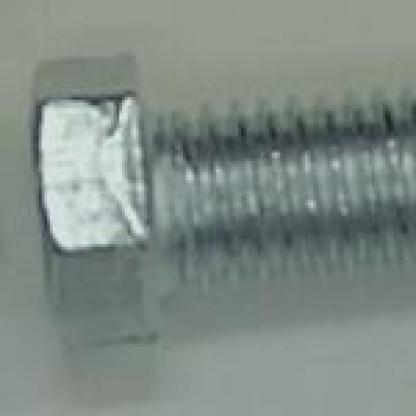FOD: (17, 42, 413, 386)
